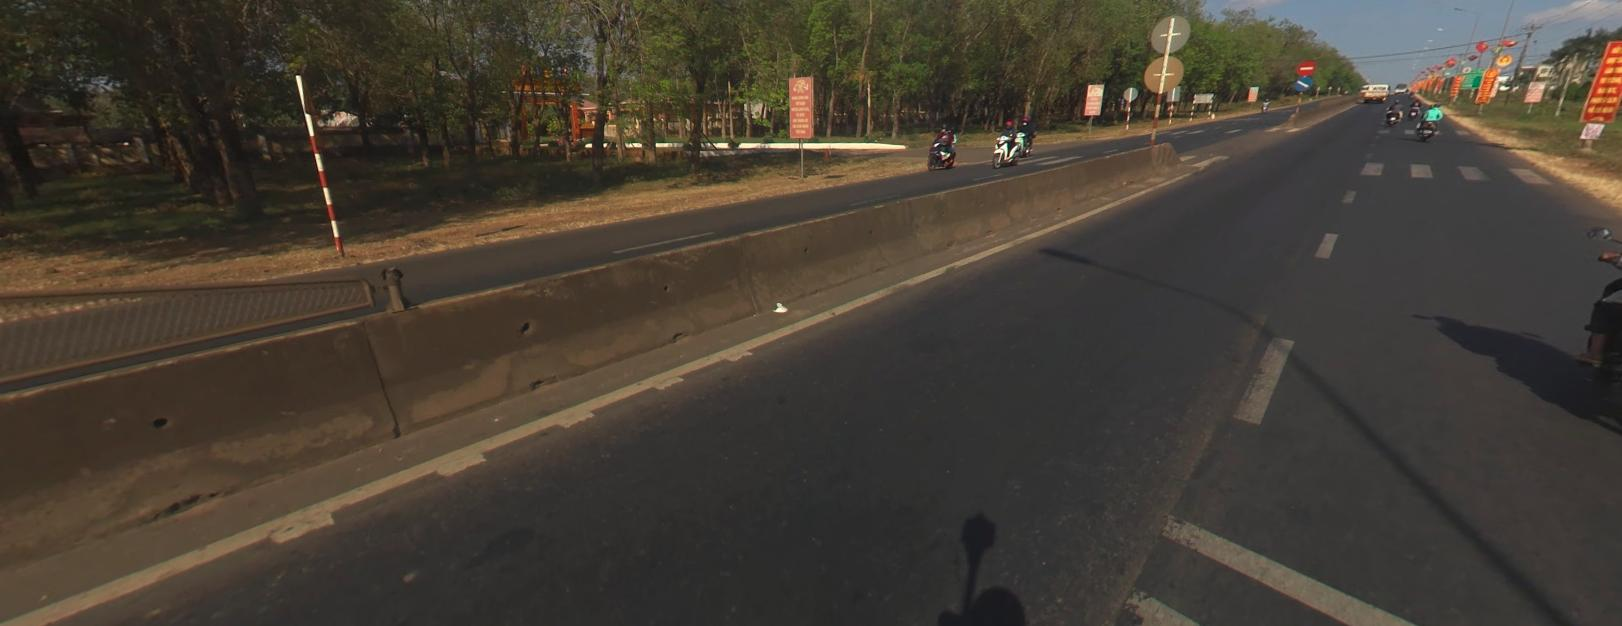Cam nguoc chieu: (1296, 60, 1313, 74)
Hieu lenh: (1294, 76, 1312, 90)
